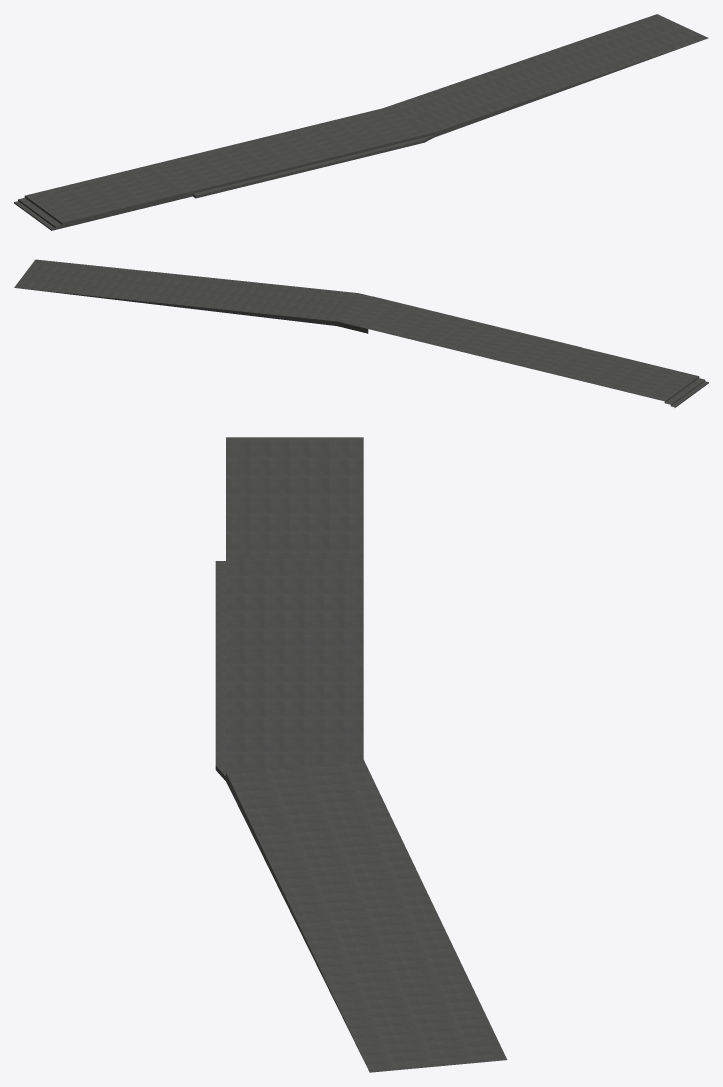
File: gradas.glb
3 renders of one model, top to bottom at view 1: azimuth 30°, elevation 25°; view 2: azimuth 150°, elevation 25°; view 3: azimuth 270°, elevation 25°, orthographic. The views are drawn at different scales.
Visible parts, largest first — view 1: base grada; view 2: base grada; view 3: base grada.
Part boxes in pixels (x1,y1,x2,y2): base grada: (14, 14, 708, 230); base grada: (14, 259, 708, 407); base grada: (215, 437, 507, 1072).
Size of the model in its own units: 254 by 3.85 by 50.29.
1 material, 1 textured.
